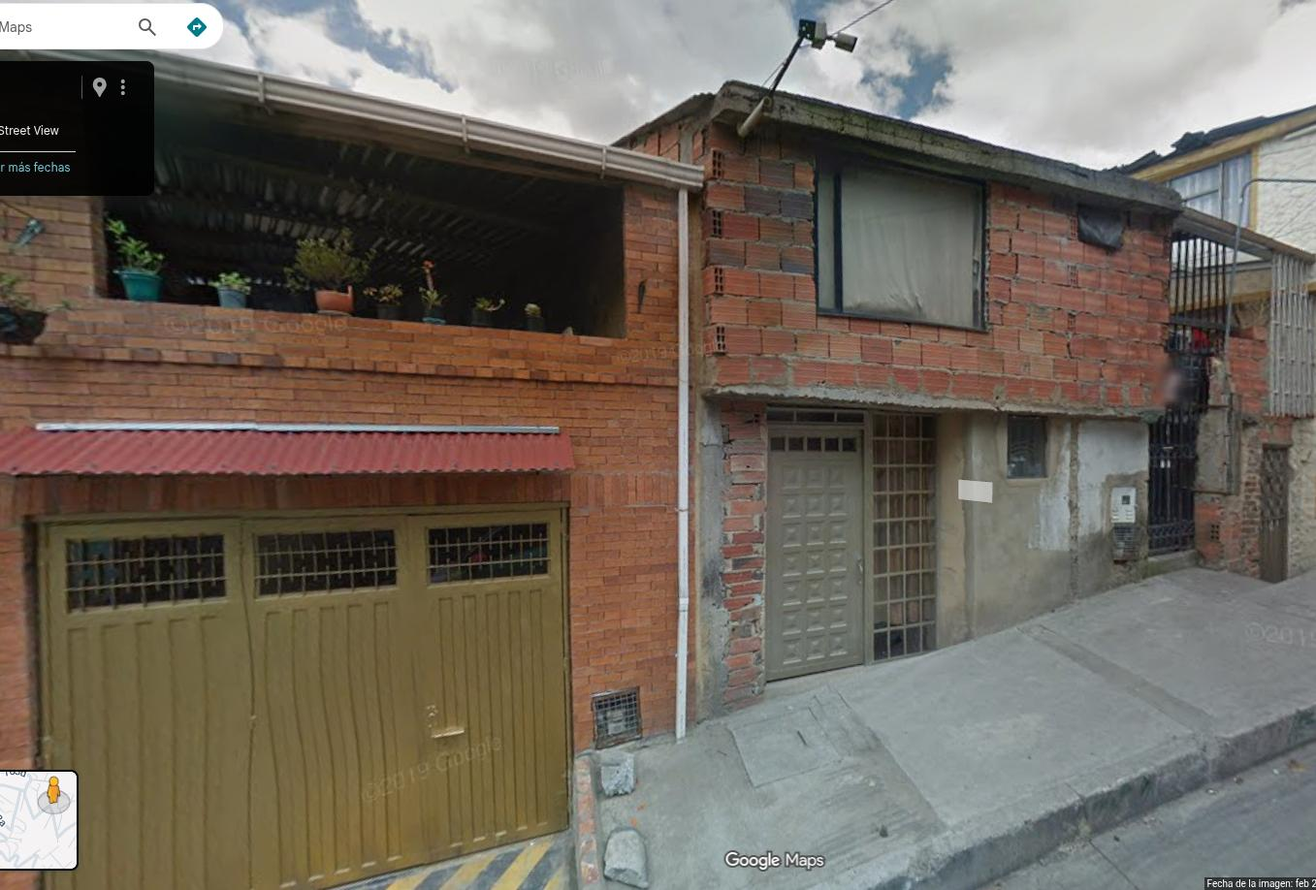casa: (0, 66, 691, 889), (619, 81, 1180, 715), (1147, 210, 1315, 581)
